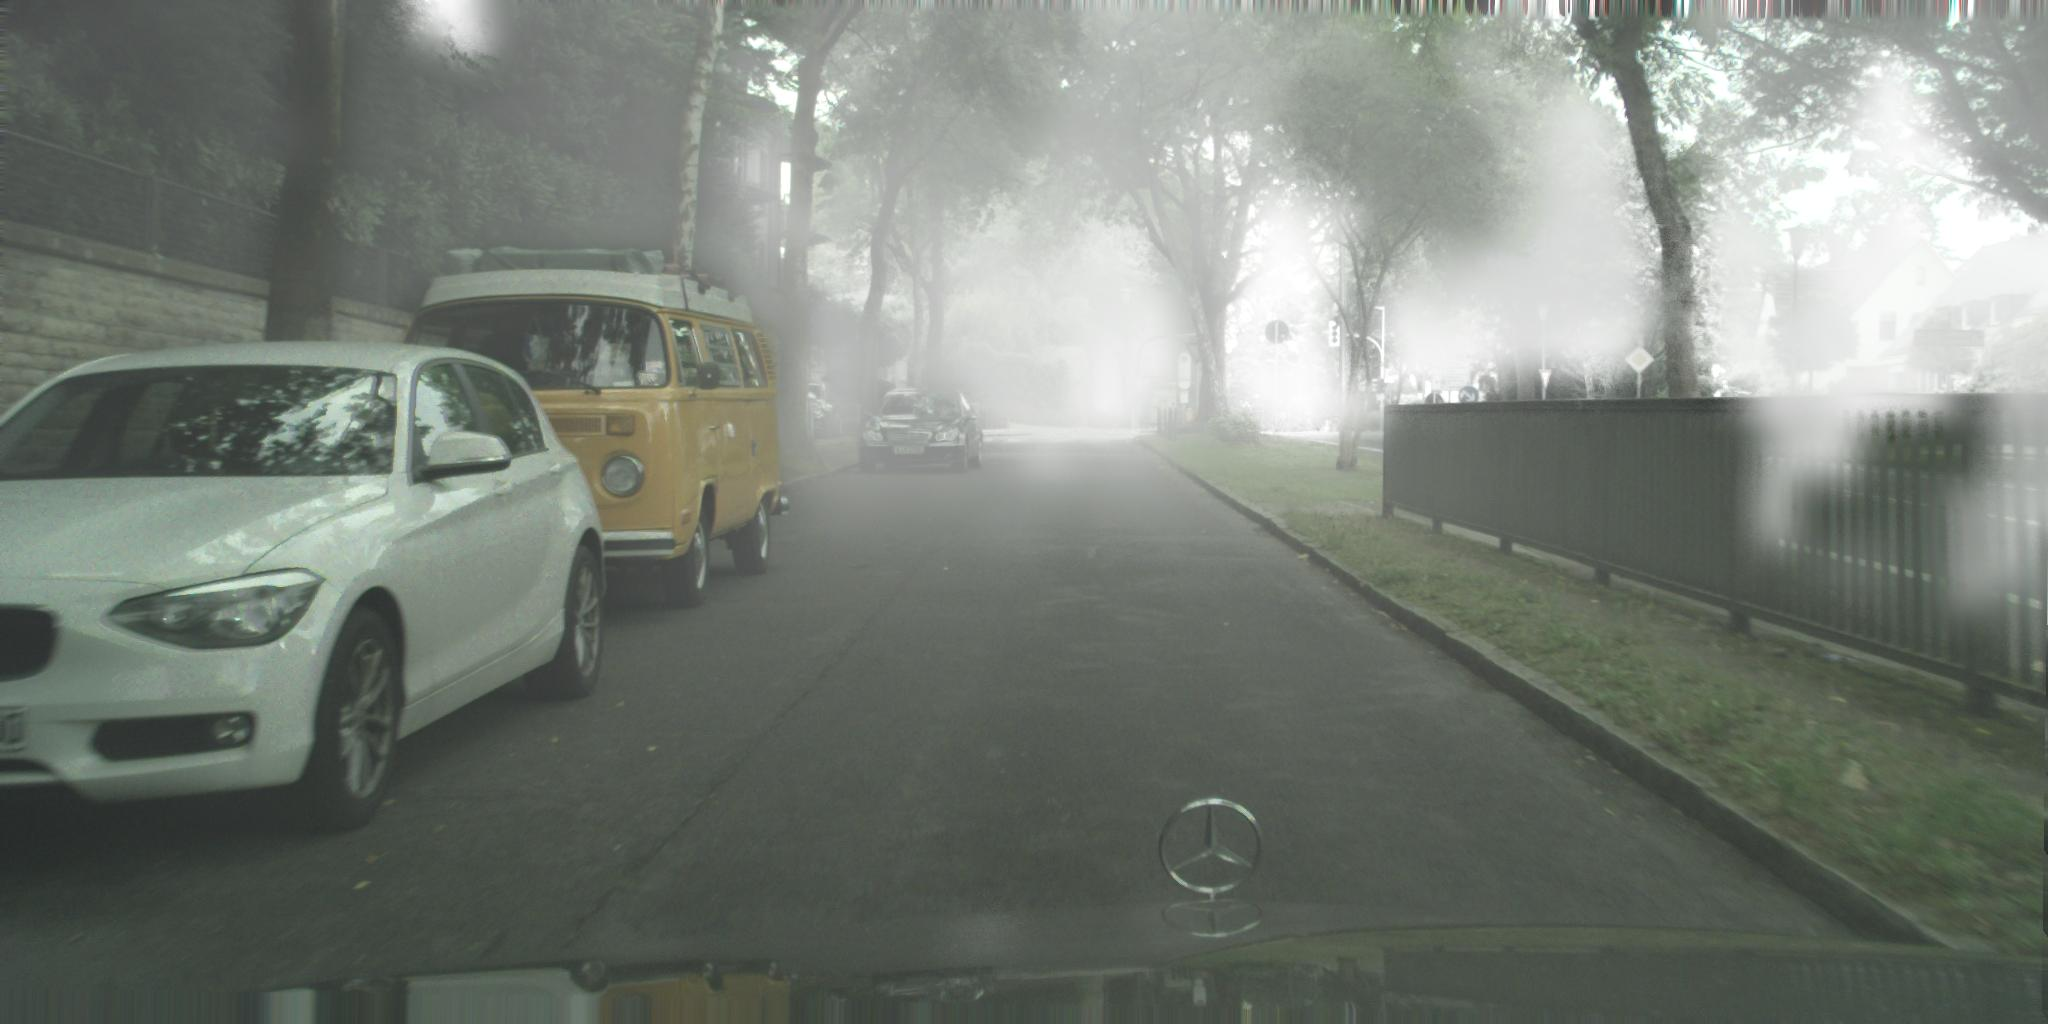car: (1, 342, 609, 835), (374, 246, 792, 609), (858, 389, 985, 475), (801, 381, 845, 440), (1320, 421, 1335, 432), (1330, 417, 1340, 432)
